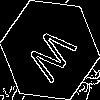W: (25, 25, 85, 90)
